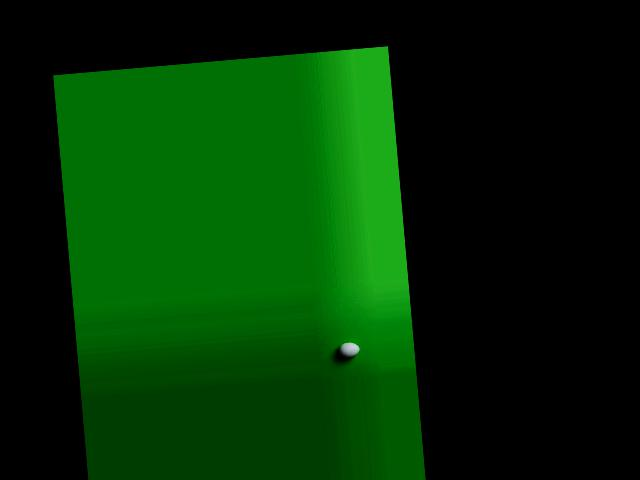egg: (337, 341, 360, 358)
